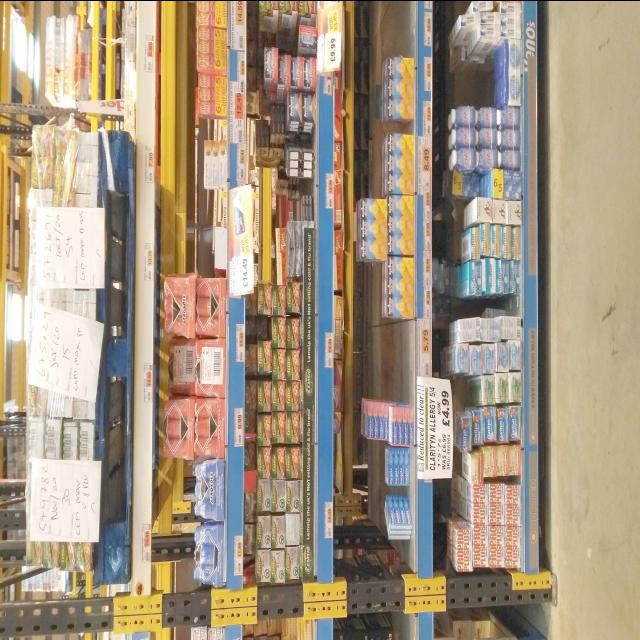empty_space: (360, 17, 382, 196), (364, 319, 415, 395), (381, 0, 414, 52), (353, 266, 379, 314), (366, 446, 382, 514), (454, 72, 490, 100)
